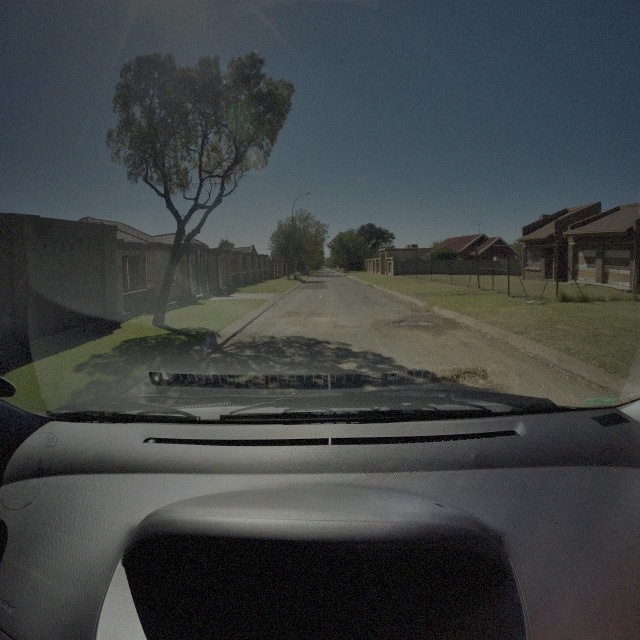pothole: (451, 368, 484, 390), (393, 318, 433, 328)
